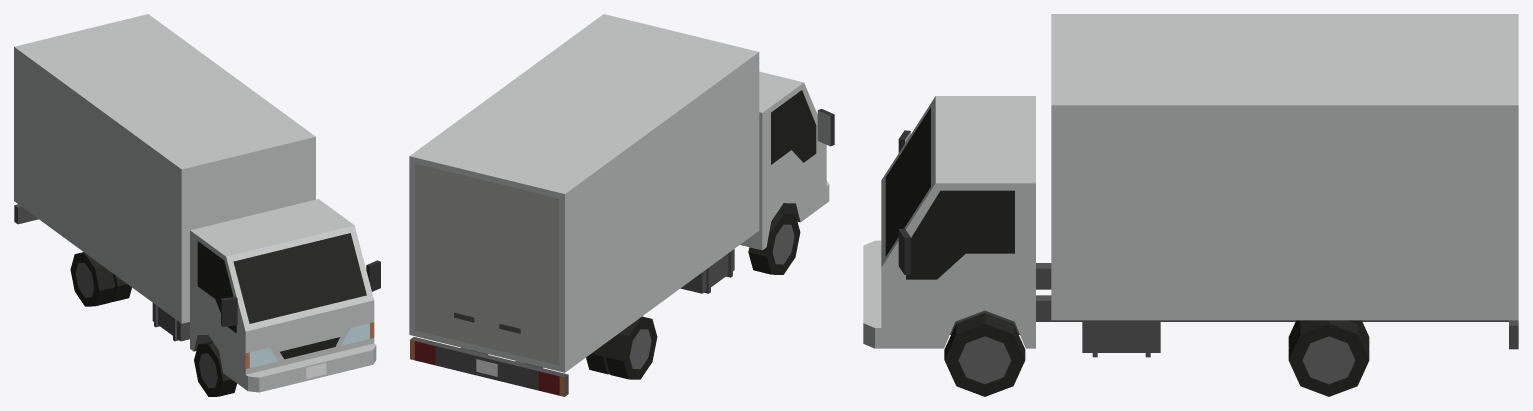
Rendered from Veh_Truck_02_White.obj.
The picture shows the model from 3 angles, left to right: view 1: azimuth 30°, elevation 25°; view 2: azimuth 150°, elevation 25°; view 3: azimuth 270°, elevation 25°; orthographic projection. The views are drawn at different scales.
Size of the model in its own units: 1.27 by 1.61 by 3.26.
